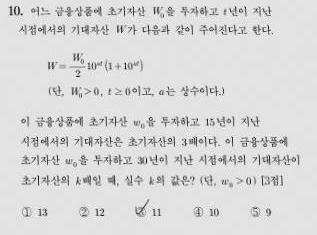choice: (134, 201, 148, 219)
not-choice: (20, 206, 33, 218), (76, 205, 89, 217), (248, 205, 261, 217), (192, 206, 204, 218)
